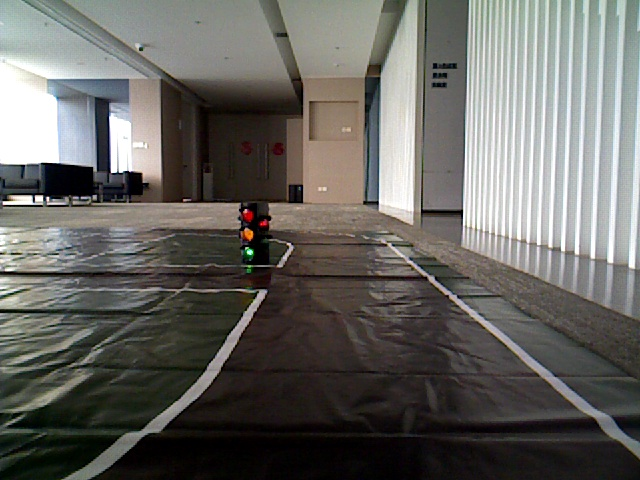green: (240, 209, 257, 257)
